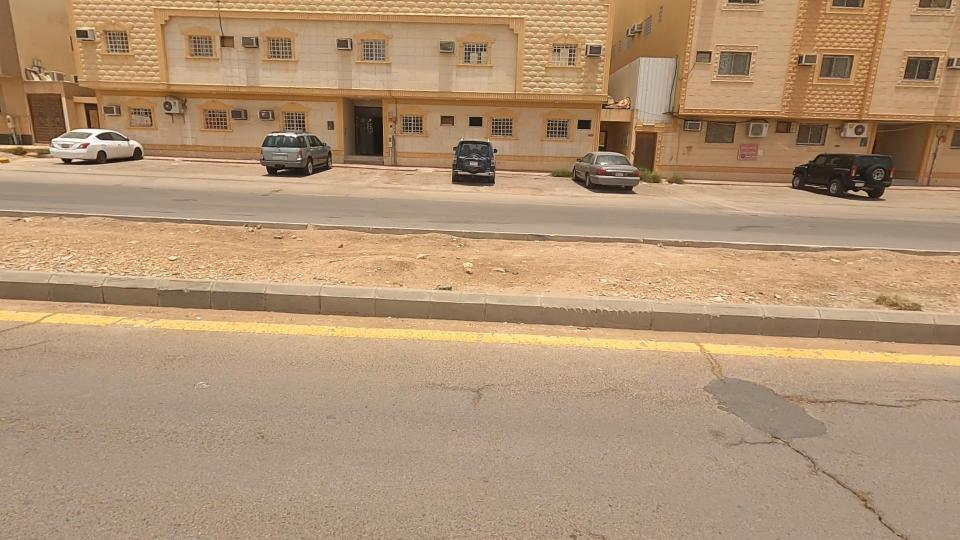CLUTTER_SIDEWALK: (0, 145, 551, 381), (259, 182, 960, 347)
